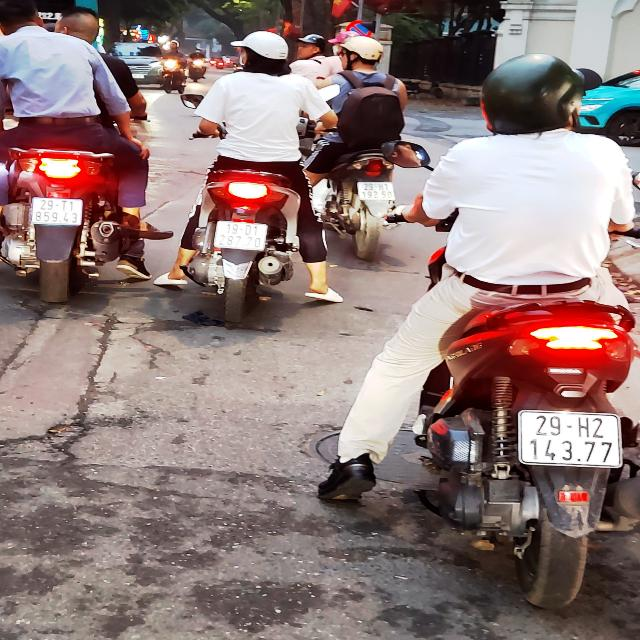license_plate: (518, 410, 629, 468), (214, 221, 270, 252), (32, 198, 85, 228), (358, 182, 400, 203)
